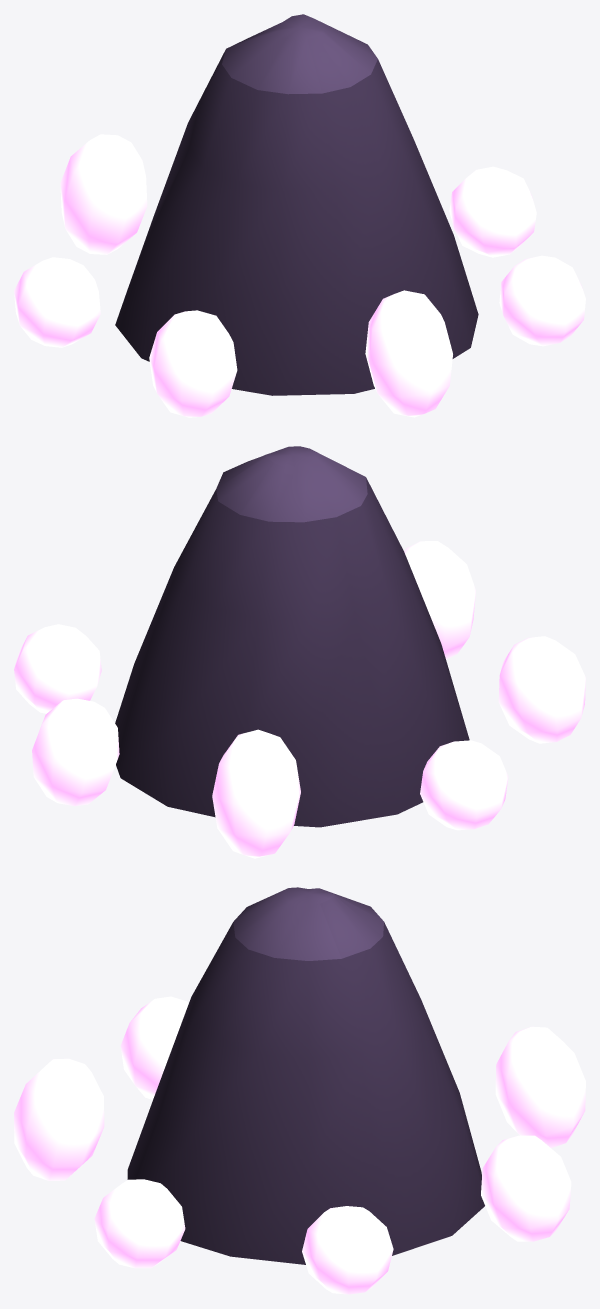
Rendered from landmark_hive.glb.
3 renders of one model, top to bottom at view 1: azimuth 30°, elevation 25°; view 2: azimuth 150°, elevation 25°; view 3: azimuth 270°, elevation 25°, orthographic.
Parts seen in each view (by area): view 1: landmark_hive; view 2: landmark_hive; view 3: landmark_hive.
Part boxes in pixels (x1,y1,x2,y2): landmark_hive: (14,14,585,417); landmark_hive: (14,446,585,858); landmark_hive: (14,887,585,1294).
Size of the model in its own units: 6.92 by 3.92 by 6.86.
